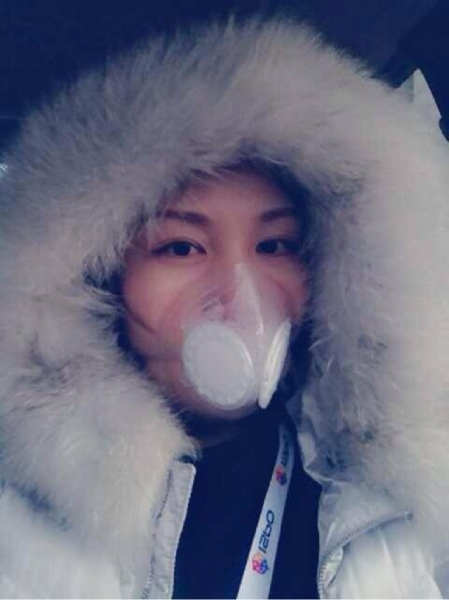face_mask: (125, 176, 310, 417)
